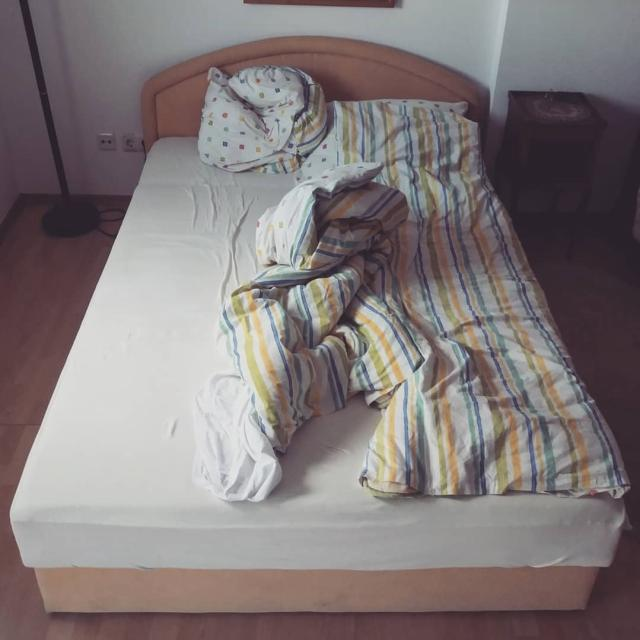bed: (98, 76, 543, 614)
